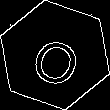O_N: (25, 24, 85, 86)
